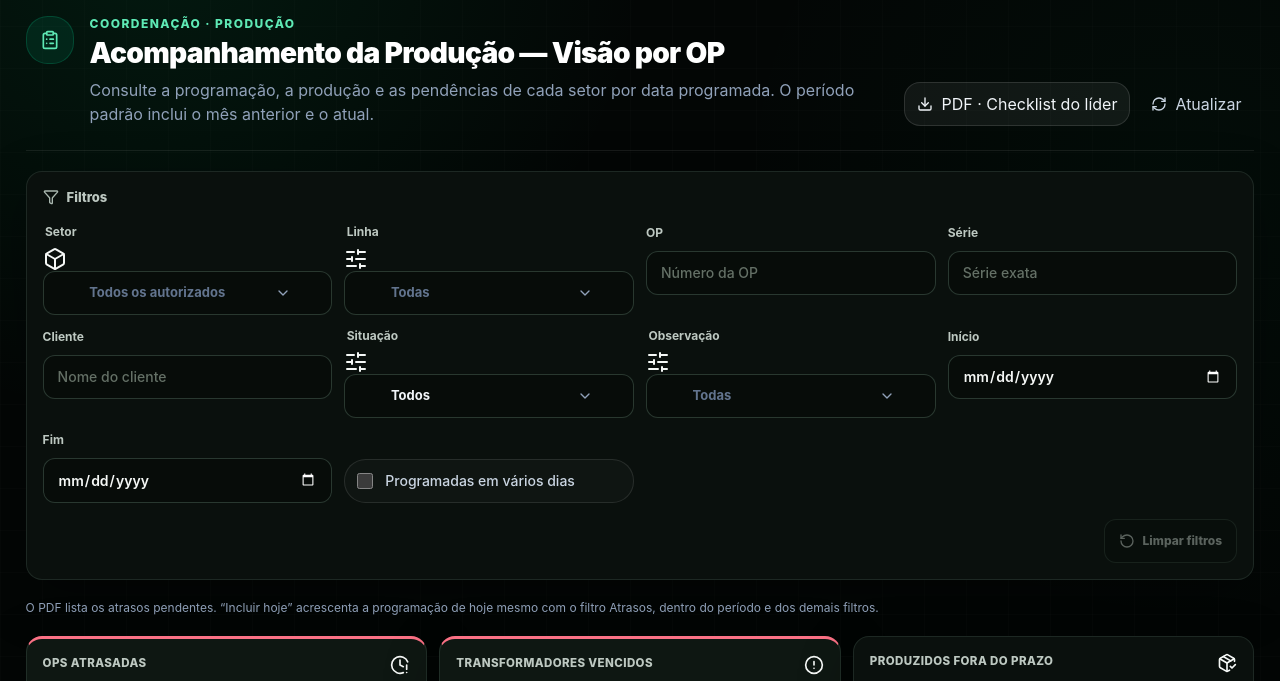
Test: Visão OP — filtros reais e importação › valida OP antes da rede e mantém a região de programação identificada
The image size is (1280, 681).
Expected: the dropdown named "Setor" is enabled, [43,271,332,315]
Type "ABC" into the field labelled "OP".
click(791, 273); type("ABC")  # box [646,251,936,295]
(page scrolled)
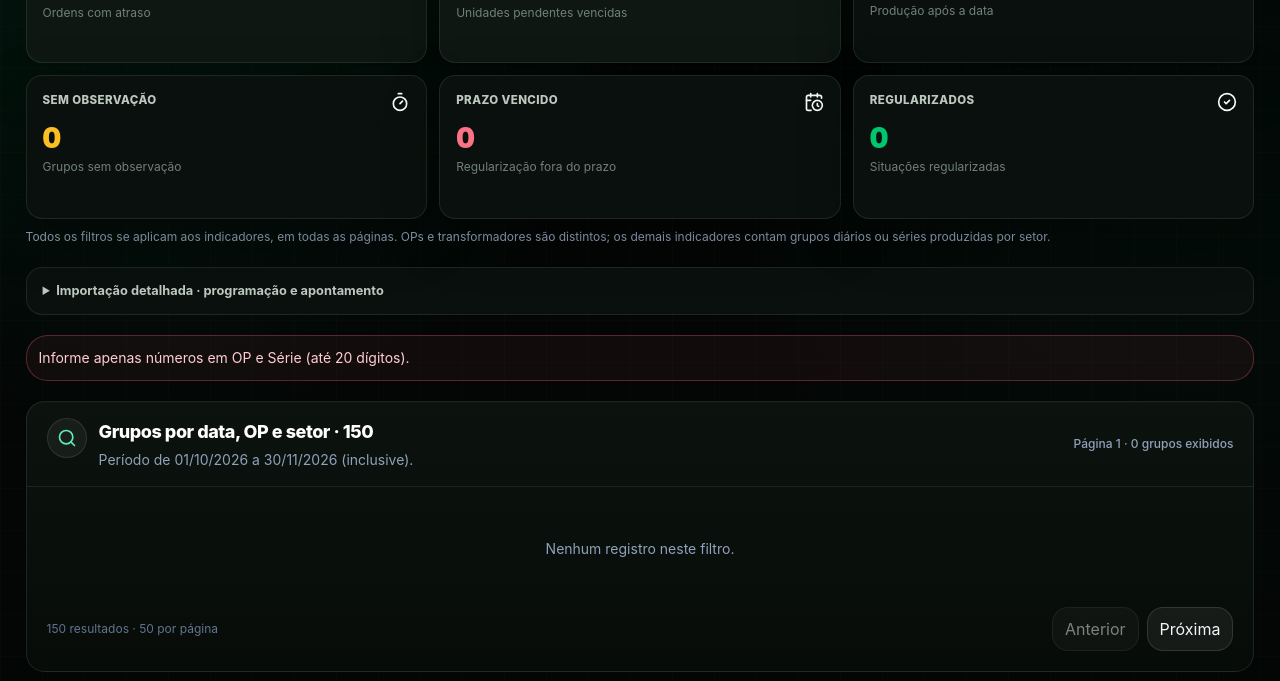
Expected: the element named "Programação por data, OP e setor" is shown, [546,540,734,557]
Expected: the text "Informe apenas números em OP e Série (até 20 dígitos)." is shown, [26,335,1254,381]
